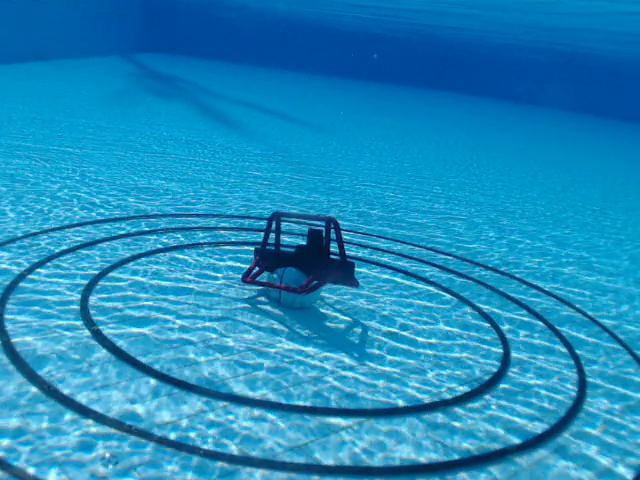submarine: (240, 211, 361, 300)
